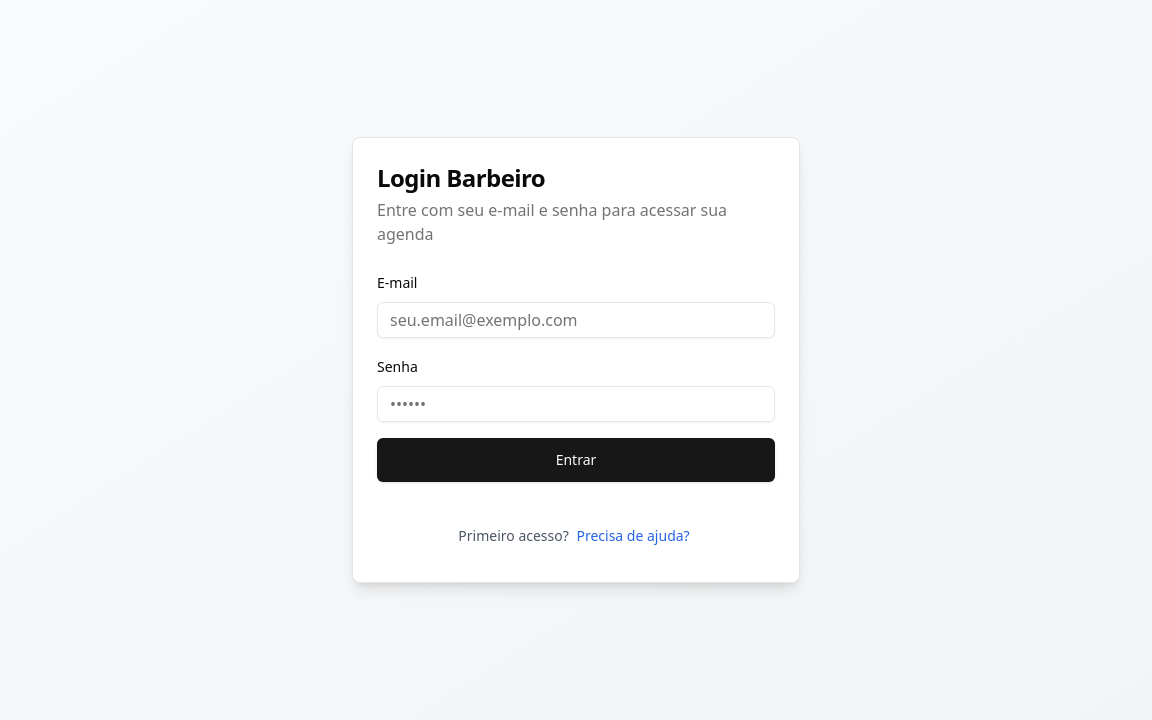
Test: LoginPage › Modal de Ajuda › deve abrir modal ao clicar no link de ajuda
Click the button with test id "help-button". click: (633, 536)
box: [572, 514, 694, 558]
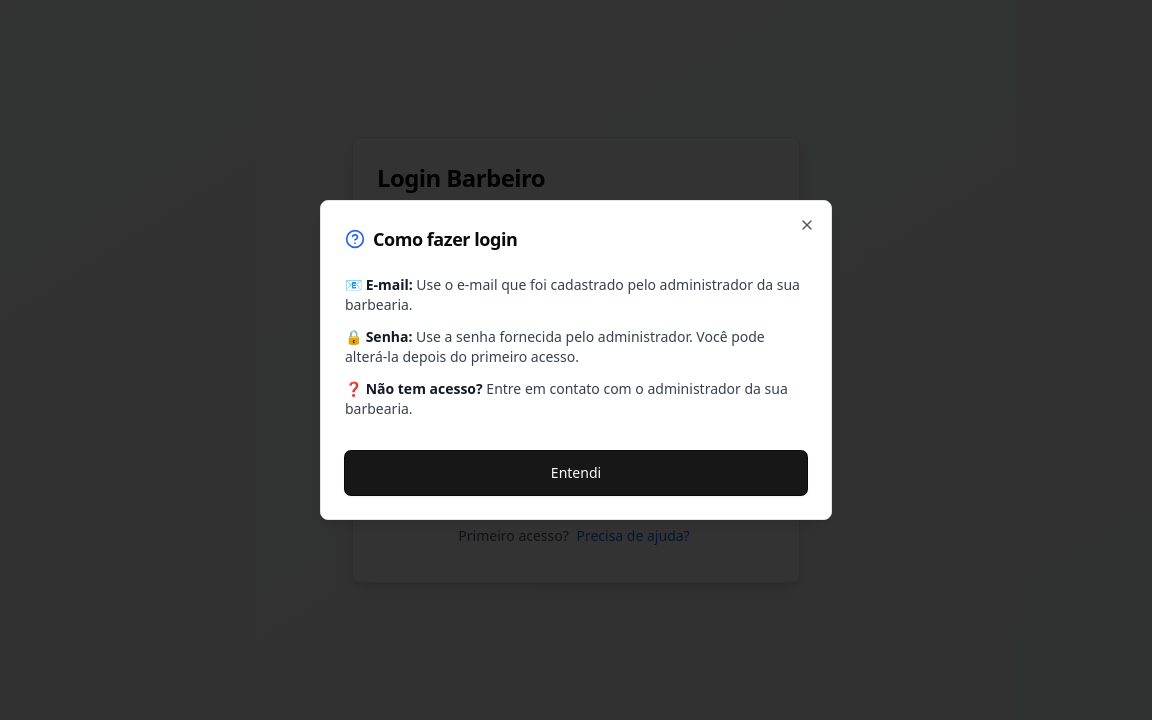
Expected: the dialog with test id "help-modal" is shown, [320, 200, 832, 520]
